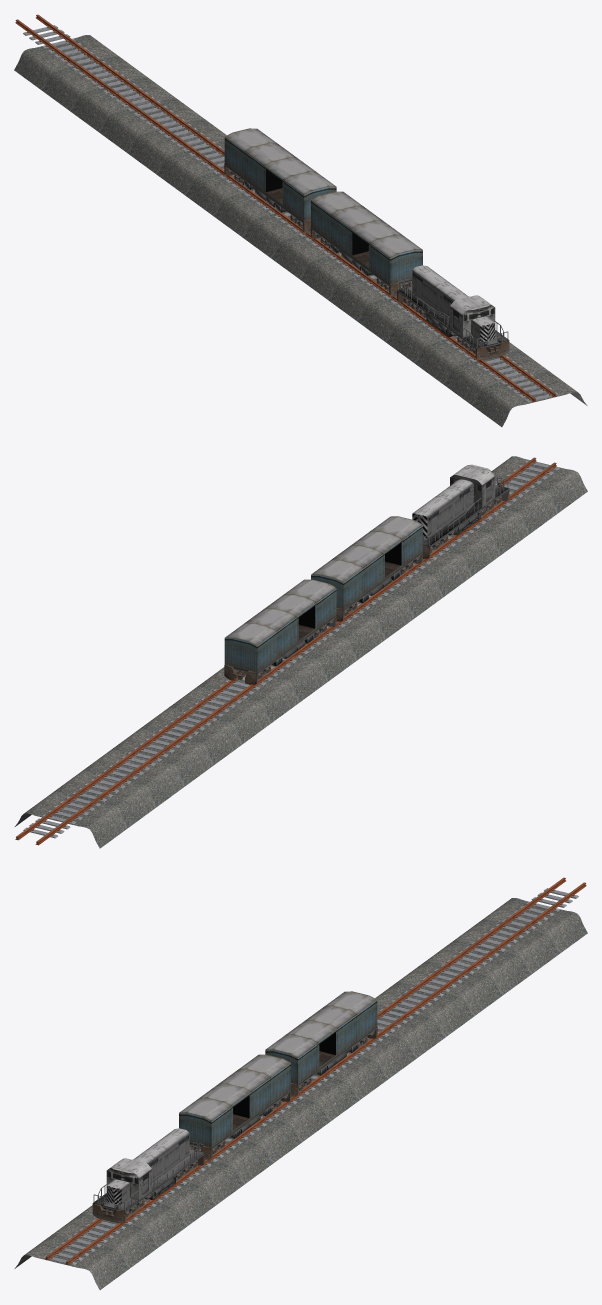
The model's file is freight_train.fbx.
The picture shows the model from 3 angles, top to bottom: view 1: azimuth 30°, elevation 25°; view 2: azimuth 150°, elevation 25°; view 3: azimuth 330°, elevation 25°; orthographic projection.
Visible parts, largest first — view 1: sand, box, conn, box.001, rail, locomotive, ld; view 2: sand, box.001, conn, box, rail, locomotive, ld; view 3: sand, box, conn, box.001, rail, locomotive, ld.
Part boxes in pixels (box(x1,y1,x2,y2)): sand: box(14, 35, 587, 426); box: box(311, 191, 422, 284); conn: box(23, 25, 559, 402); box.001: box(224, 128, 336, 221); rail: box(15, 14, 556, 402); locomotive: box(412, 265, 495, 341); ld: box(397, 286, 509, 349); sand: box(15, 456, 587, 848); box.001: box(224, 579, 336, 672); conn: box(23, 460, 559, 838); box: box(311, 516, 422, 609); rail: box(15, 457, 556, 845); locomotive: box(412, 464, 495, 539); ld: box(423, 485, 509, 547); sand: box(14, 898, 587, 1289); box: box(179, 1054, 290, 1147); conn: box(42, 888, 578, 1265); box.001: box(265, 991, 377, 1084); rail: box(45, 877, 586, 1265); locomotive: box(106, 1128, 189, 1204); ld: box(92, 1149, 204, 1212).
Bounding box in the file's own units: 848 × 604 × 8854.
10 materials, 8 textured.
